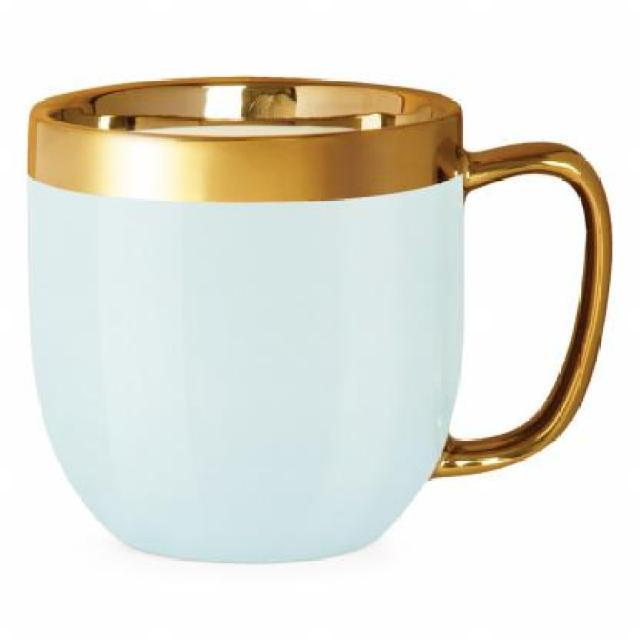cup: (18, 48, 619, 574)
